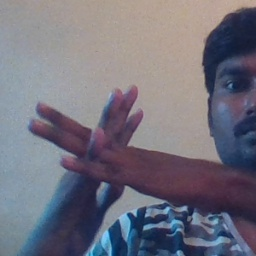W: (23, 78, 176, 222)
